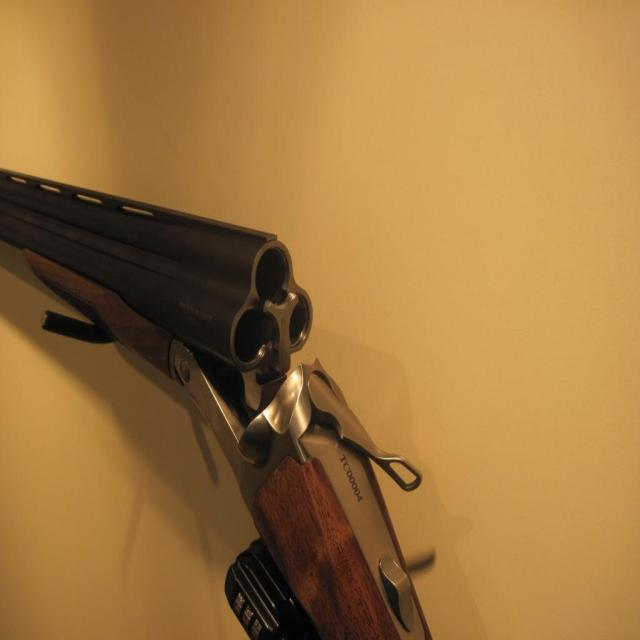firearm: (2, 163, 433, 640)
